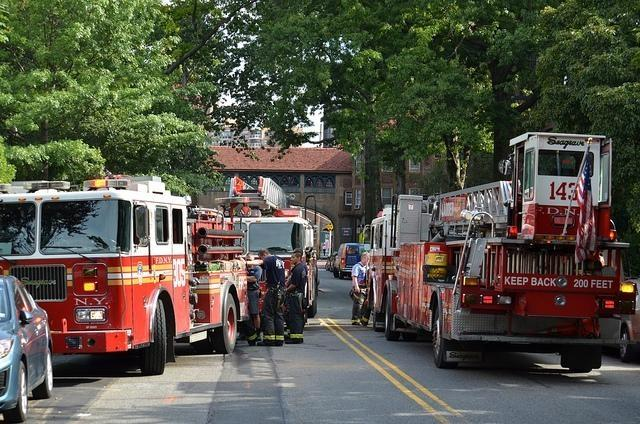car: (0, 274, 54, 418), (604, 279, 640, 363), (334, 242, 364, 280), (323, 251, 338, 272)
truck: (362, 134, 638, 376), (1, 174, 251, 374), (219, 170, 328, 329)
